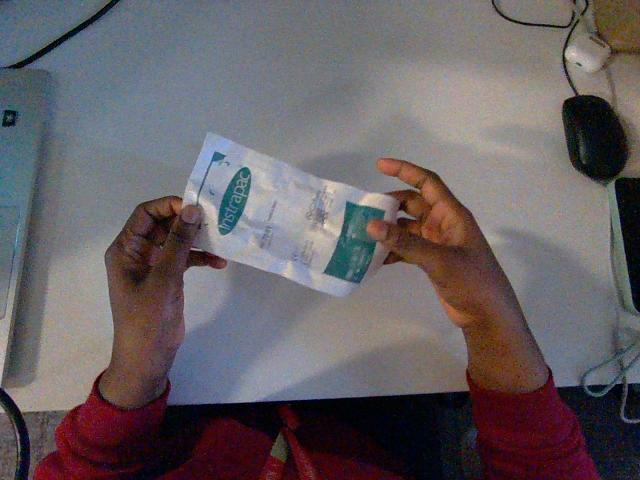gallipot: (184, 134, 398, 296)
